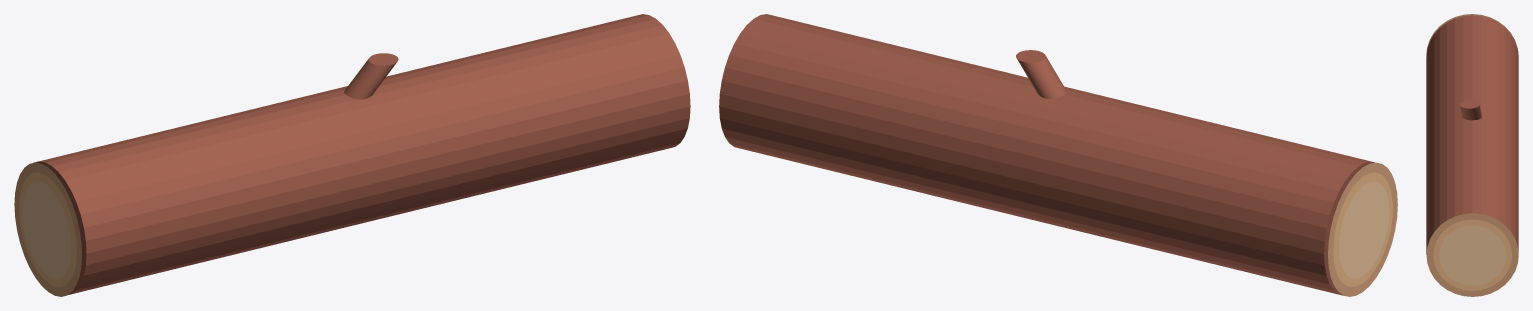
File: Log.fbx
3 views of the same model, side by side, from view 1: azimuth 30°, elevation 25°; view 2: azimuth 150°, elevation 25°; view 3: azimuth 270°, elevation 25° (orthographic). The views are drawn at different scales.
Visible parts, largest first — view 1: Cylinder.006; view 2: Cylinder.006; view 3: Cylinder.006.
Boxes of the visible parts, bbox=[...] form: Cylinder.006: bbox=[14, 14, 690, 296]; Cylinder.006: bbox=[719, 14, 1397, 296]; Cylinder.006: bbox=[1426, 14, 1518, 296].
Size of the model in its own units: 1027 by 245 by 201.
